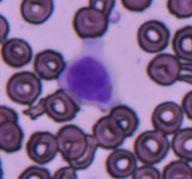L: (60, 51, 122, 109)
